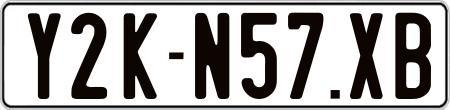2: (68, 13, 108, 100)
5: (239, 13, 276, 105)
7: (286, 13, 323, 103)
B: (394, 12, 436, 101)
K: (123, 11, 158, 102)
N: (192, 10, 231, 102)
X: (347, 12, 381, 104)
Y: (25, 10, 63, 97)
